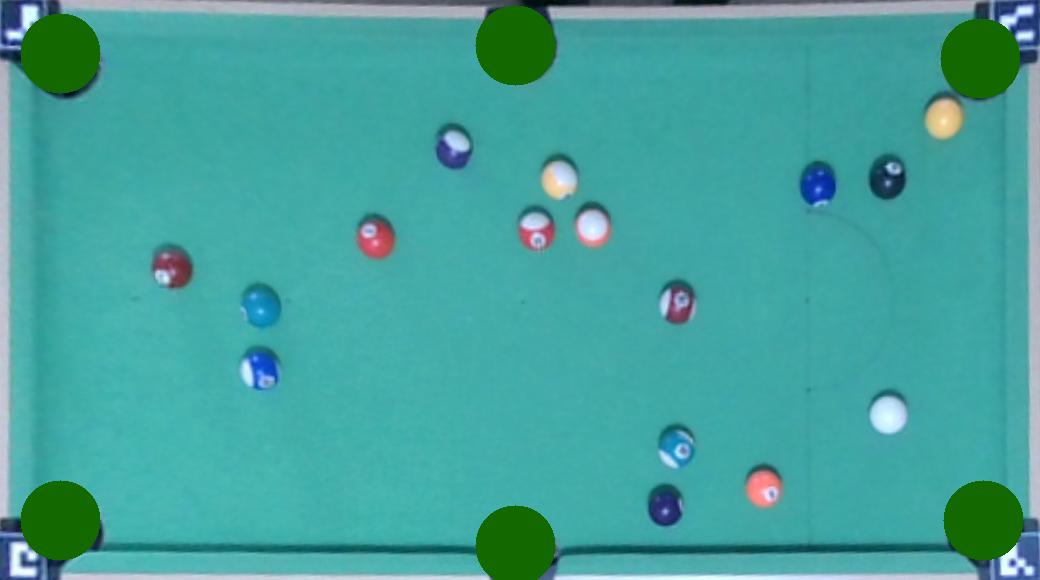Ball: (150, 246, 192, 288), (922, 97, 964, 138), (240, 351, 282, 392), (240, 285, 280, 327), (356, 216, 396, 258), (434, 125, 474, 167), (869, 156, 907, 200), (798, 165, 838, 206), (656, 427, 696, 467), (658, 283, 698, 323), (573, 208, 612, 248), (540, 161, 580, 199), (746, 470, 783, 510), (869, 397, 907, 435), (518, 210, 554, 250), (646, 489, 684, 525)
